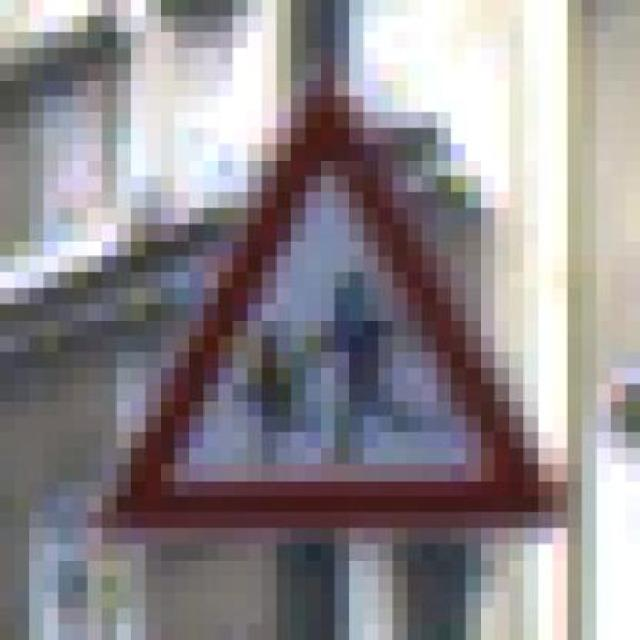Beware of children: (96, 65, 562, 560)
